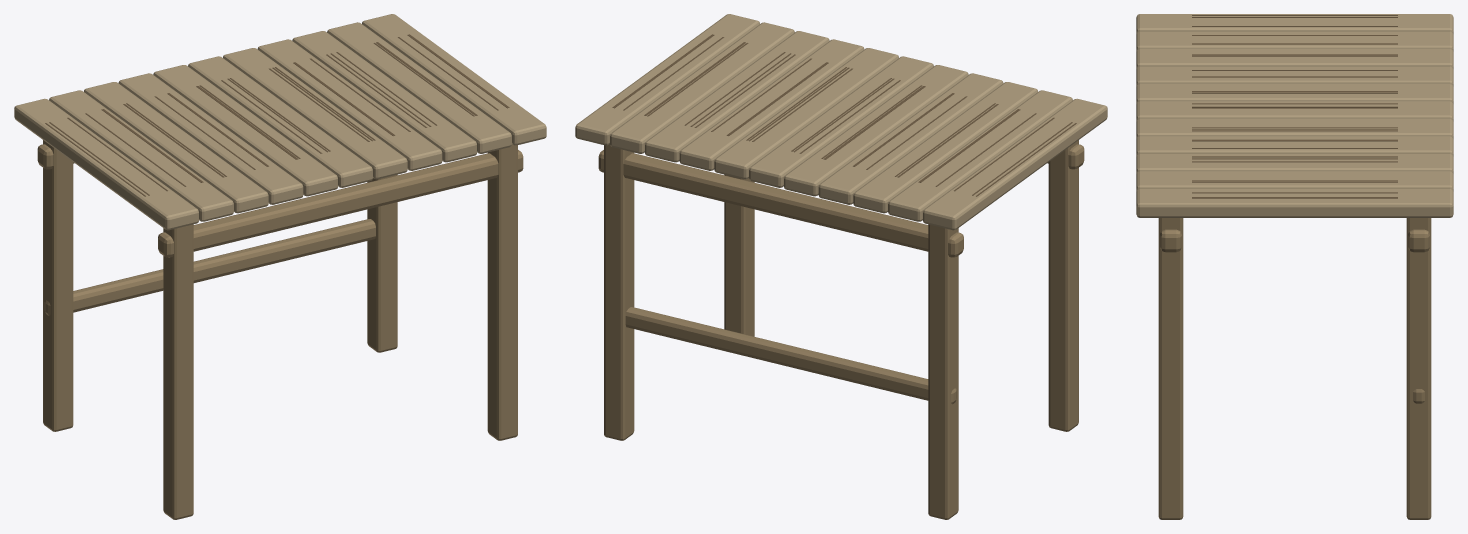
Rendered from Wayside_Shelter_Barren.glb.
The picture shows the model from 3 angles, left to right: view 1: azimuth 30°, elevation 25°; view 2: azimuth 150°, elevation 25°; view 3: azimuth 270°, elevation 25°; orthographic projection. The views are drawn at different scales.
Parts seen in each view (by area): view 1: Structure; view 2: Structure; view 3: Structure.
Boxes of the visible parts, x1=… form: Structure: x1=14, y1=14, x2=546, y2=519; Structure: x1=575, y1=14, x2=1107, y2=519; Structure: x1=1136, y1=14, x2=1453, y2=519.
Size of the model in its own units: 3.29 by 2.61 by 2.3.
